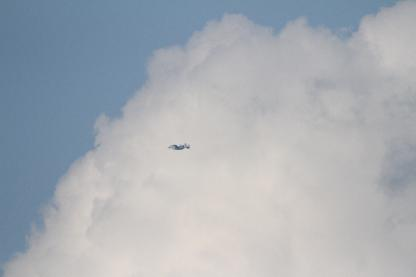A10: (167, 142, 189, 149)
